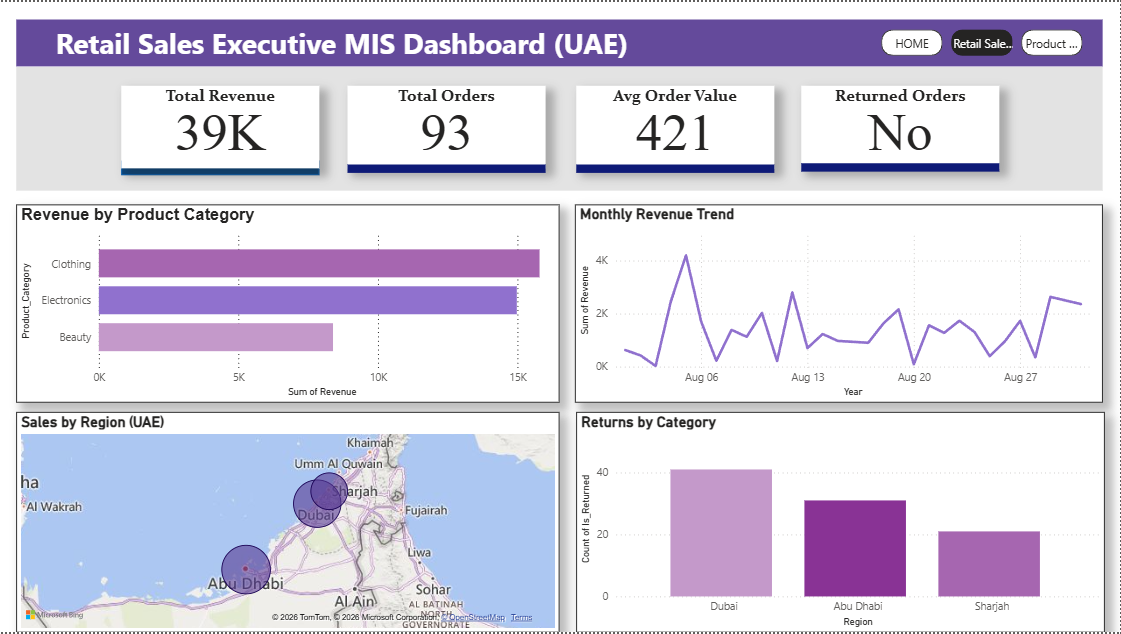

This screenshot's page, from the dashboard's own definition file:
{"tool":"powerbi","page":{"name":"Retail Sales Dashboard ","canvas":[1280,720],"ordinal":1},"visuals":[{"type":"textbox","box":[19.2,20.6,1241.9,53.5],"z":0},{"type":"shape","box":[19.2,74.1,1241.9,141.3],"z":1000},{"type":"card","title":"Total Orders","fields":{"Values":["Count(sales retail_sales (2).OrderID)"]},"box":[397.1,95.7,226.4,94.7],"z":2000,"group":"g4"},{"type":"clusteredBarChart","title":"Revenue by Product Category","fields":{"Category":["sales retail_sales (2).Product_Category"],"Y":["Sum(sales retail_sales (2).Revenue)"]},"box":[19,231.9,621.2,226.5],"z":2000},{"type":"shape","box":[138.6,180.8,226.4,16.5],"z":3000,"group":"g3"},{"type":"lineChart","title":"Monthly Revenue Trend","fields":{"Category":["sales retail_sales (2).salesDate.Variation.Date Hierarchy.Year","sales retail_sales (2).salesDate.Variation.Date Hierarchy.Quarter","sales retail_sales (2).salesDate.Variation.Date Hierarchy.Month","sales retail_sales (2).salesDate.Variation.Date Hierarchy.Day"],"Y":["Sum(sales retail_sales (2).Revenue)"]},"box":[657.8,231.9,603.5,226.5],"z":3000},{"type":"card","title":"Avg Order Value","fields":{"Values":["Avg(sales retail_sales (2).Revenue)"]},"box":[658.6,95.7,226.4,94.7],"z":4000,"group":"g2"},{"type":"map","title":"Sales by Region (UAE)","fields":{"Category":["sales retail_sales (2).Region"],"Size":["Sum(sales retail_sales (2).Revenue)"]},"box":[19,467.9,621.2,252.3],"z":4000},{"type":"card","title":"Returned Orders","fields":{"Values":["Min(sales retail_sales (2).Is_Returned)"]},"box":[915.7,95.7,226.4,94.7],"z":5000,"group":"g1"},{"type":"clusteredColumnChart","title":"Returns by Category","fields":{"Category":["sales retail_sales (2).Region"],"Y":["CountNonNull(sales retail_sales (2).Is_Returned)"]},"box":[658,468,604,252],"z":5000},{"type":"card","title":"Total Revenue","fields":{"Values":["Sum(sales retail_sales (2).Revenue)"]},"box":[138.6,95.7,226.4,94.7],"z":6000,"group":"g3"},{"type":"group","id":"g1","title":"Group 1","box":[915.7,95.7,225.7,98.6],"z":6000},{"type":"group","id":"g2","title":"Group 2","box":[658.6,95.7,227.1,100],"z":7000},{"type":"shape","box":[397.1,186.3,226.4,9.6],"z":7000,"group":"g4"},{"type":"group","id":"g3","title":"Group 3","box":[138.6,95.7,227.1,101.4],"z":8000},{"type":"shape","box":[658.6,186.3,226.4,9.6],"z":8000,"group":"g2"},{"type":"group","id":"g4","title":"Group 4","box":[397.1,95.7,227.1,100],"z":9000},{"type":"shape","box":[915.7,184.9,226.4,9.6],"z":9000,"group":"g1"},{"type":"pageNavigator","box":[1007.1,31.4,230,30],"z":10000}]}

Visuals, with their boxes in screenshot pixels (x1, y1, x2, y2), scaled from the page's 1280x720 canvas onto the 1121x634 screenshot:
textbox: <box>17,18,1104,65</box>
shape: <box>17,65,1104,190</box>
"Total Orders" card: <box>348,84,546,168</box>
"Revenue by Product Category" clusteredBarChart: <box>17,204,561,404</box>
shape: <box>121,159,320,174</box>
"Monthly Revenue Trend" lineChart: <box>576,204,1105,404</box>
"Avg Order Value" card: <box>577,84,775,168</box>
"Sales by Region (UAE)" map: <box>17,412,561,633</box>
"Returned Orders" card: <box>802,84,1000,168</box>
"Returns by Category" clusteredColumnChart: <box>576,412,1105,633</box>
"Total Revenue" card: <box>121,84,320,168</box>
"Group 1" group: <box>802,84,1000,171</box>
"Group 2" group: <box>577,84,776,172</box>
shape: <box>348,164,546,173</box>
"Group 3" group: <box>121,84,320,174</box>
shape: <box>577,164,775,173</box>
"Group 4" group: <box>348,84,547,172</box>
shape: <box>802,163,1000,171</box>
pageNavigator: <box>882,28,1083,54</box>
